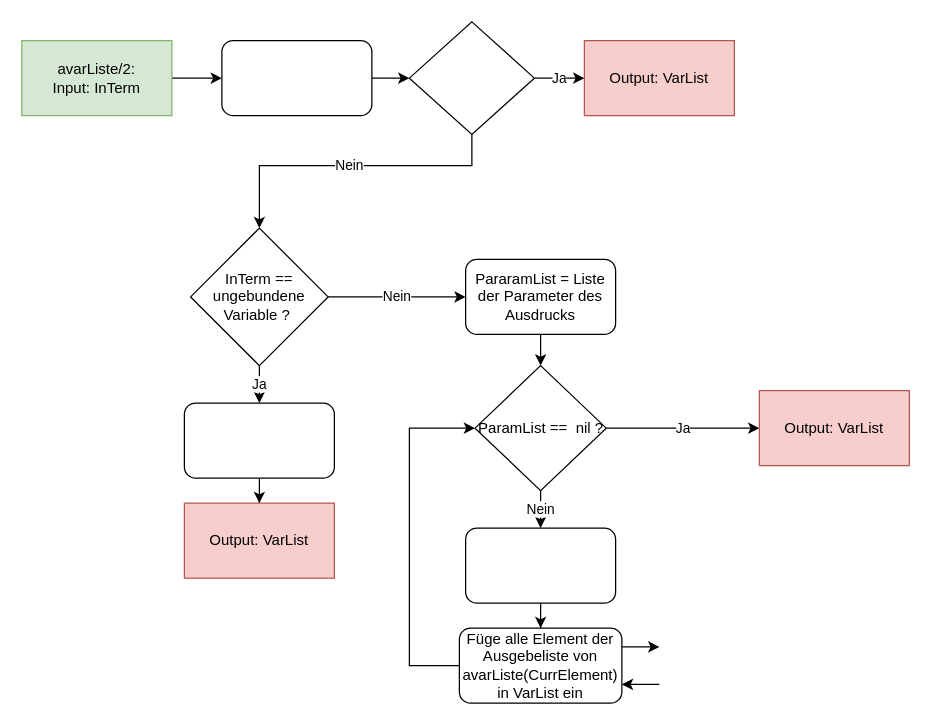
Image size: 931x725. Some labels were removed from this diagram. The shapes that lost their labels are listed below. From the top down, each one's box as (x1, y1, x2, y2) in pixels, then its label:
(221, 39, 372, 116): VarList = leer
(408, 21, 534, 134): InTerm == leer ?
(183, 402, 334, 478): Füge InTerm in VarList ein
(464, 527, 616, 603): CurrElement = nächstes Element von ParamList
